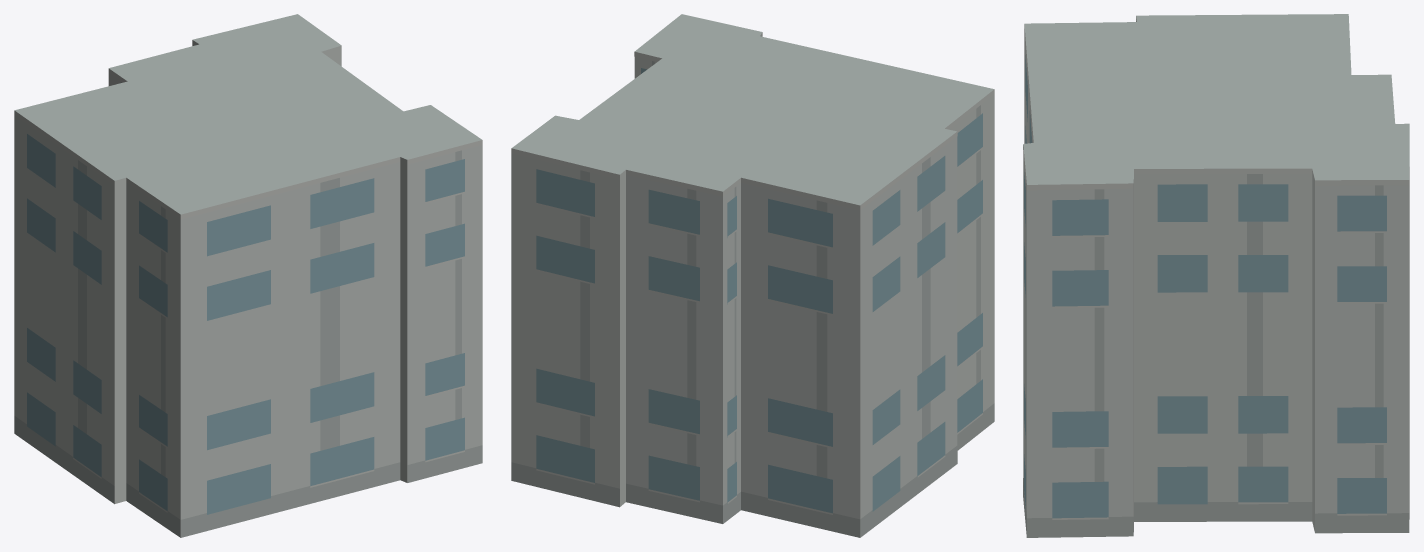
The model's file is survey-upis-32571997.glb.
3 views of the same model, side by side, from view 1: azimuth 30°, elevation 25°; view 2: azimuth 150°, elevation 25°; view 3: azimuth 270°, elevation 25° (orthographic). The views are drawn at different scales.
Parts seen in each view (by area): view 1: survey-upis-32571997.tmp; view 2: survey-upis-32571997.tmp; view 3: survey-upis-32571997.tmp.
Part boxes in pixels (x1,y1,x2,y2): survey-upis-32571997.tmp: [14, 14, 482, 537]; survey-upis-32571997.tmp: [511, 14, 994, 537]; survey-upis-32571997.tmp: [1023, 14, 1409, 537].
Size of the model in its own units: 16.73 by 16.1 by 15.99.
